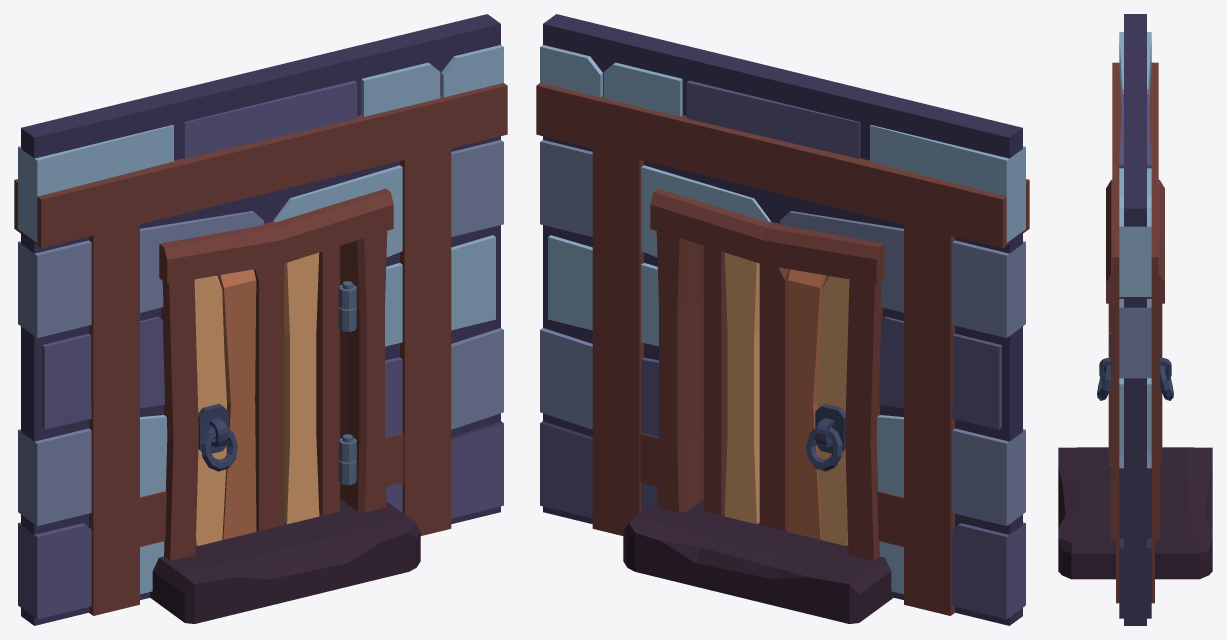
The model's file is Modular Wall 10 MK2 D2.fbx.
The picture shows the model from 3 angles, left to right: view 1: azimuth 30°, elevation 25°; view 2: azimuth 150°, elevation 25°; view 3: azimuth 270°, elevation 25°; orthographic projection. The views are drawn at different scales.
Visible parts, largest first — view 1: Modular Wall 10 MK2 D2, Modular Wall 10 D2 Doors; view 2: Modular Wall 10 MK2 D2, Modular Wall 10 D2 Doors; view 3: Modular Wall 10 MK2 D2, Modular Wall 10 D2 Doors.
Part boxes in pixels (x1,y1,x2,y2): Modular Wall 10 MK2 D2: [14, 14, 507, 625]; Modular Wall 10 D2 Doors: [194, 246, 356, 545]; Modular Wall 10 MK2 D2: [536, 14, 1029, 625]; Modular Wall 10 D2 Doors: [703, 246, 849, 545]; Modular Wall 10 MK2 D2: [1058, 14, 1212, 625]; Modular Wall 10 D2 Doors: [1097, 332, 1173, 481].
Bounding box in the file's own units: 400 × 400 × 134.
